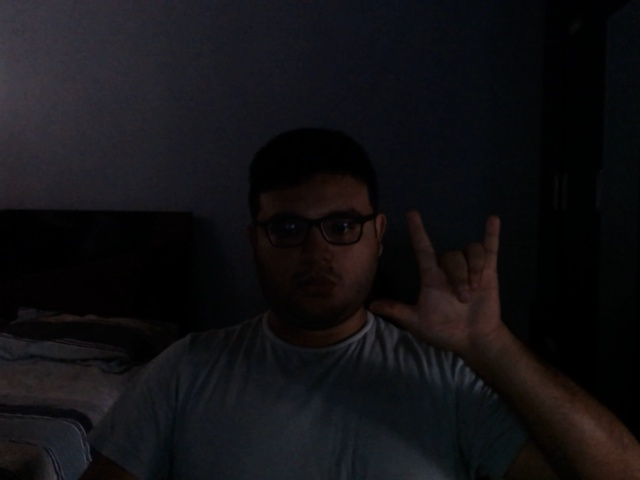I love you: (365, 207, 520, 353)
